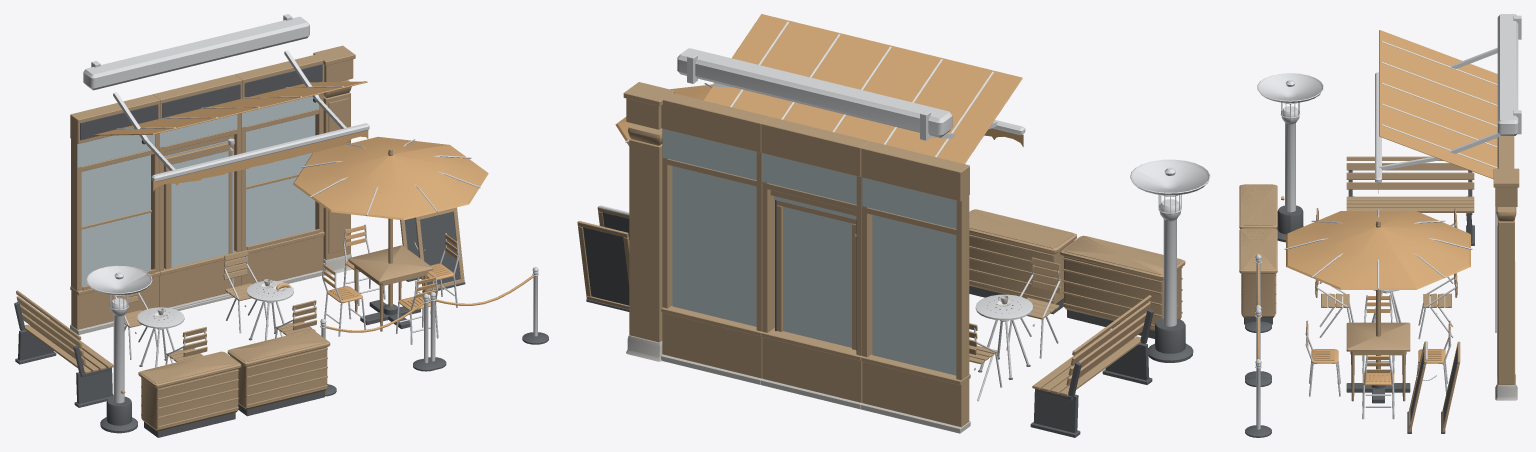
Rendered from bakery-and-cafe-cafe-terrace-f858d69a__22247.glb.
3 views of the same model, side by side, from view 1: azimuth 30°, elevation 25°; view 2: azimuth 150°, elevation 25°; view 3: azimuth 270°, elevation 25° (orthographic). The views are drawn at different scales.
Visible parts, largest first — view 1: 016-parasol/3, 000-shopfront-window-module/2, 004-awning-retractable/0, 002-shopfront-window-module/2, 001-shopfront-door-module/shop-door (×2), 000-shopfront-window-module/1, 019-planter-barrier/1, 001-shopfront-door-module/1, 002-shopfront-window-module/1, 020-planter-barrier/1, 004-awning-retractable/1, 003-shopfront-pilaster/1 (+22 smaller); view 2: 004-awning-retractable/1, 002-shopfront-window-module/2, 000-shopfront-window-module/2, 000-shopfront-window-module/1, 001-shopfront-door-module/1, 002-shopfront-window-module/1, 001-shopfront-door-module/shop-door (×2), 003-shopfront-pilaster/1, 004-awning-retractable/0, 019-planter-barrier/1, 020-planter-barrier/1, 018-outdoor-heater/1 (+14 smaller); view 3: 004-awning-retractable/1, 016-parasol/3, 017-outdoor-bench/1, 004-awning-retractable/0, 003-shopfront-pilaster/1, 020-planter-barrier/1, 018-outdoor-heater/1, 011-cafe-table-4-person/0, 019-planter-barrier/1, 004-awning-retractable/2, 023-a-board-sign/0, 015-cafe-chair-metal/1 (+20 smaller).
Boxes of the visible parts, left/top/right/bottom form: 016-parasol/3: left=293, top=136, right=488, bottom=220; 000-shopfront-window-module/2: left=77, top=134, right=154, bottom=286; 004-awning-retractable/0: left=83, top=14, right=369, bottom=182; 002-shopfront-window-module/2: left=242, top=94, right=319, bottom=247; 001-shopfront-door-module/shop-door (×2): left=164, top=142, right=234, bottom=269; 000-shopfront-window-module/1: left=70, top=94, right=160, bottom=329; 019-planter-barrier/1: left=138, top=351, right=241, bottom=431; 001-shopfront-door-module/1: left=152, top=74, right=242, bottom=307; 002-shopfront-window-module/1: left=235, top=54, right=324, bottom=285; 020-planter-barrier/1: left=227, top=330, right=330, bottom=409; 004-awning-retractable/1: left=94, top=81, right=368, bottom=191; 003-shopfront-pilaster/1: left=313, top=45, right=355, bottom=259; 004-awning-retractable/1: left=703, top=14, right=1023, bottom=163; 002-shopfront-window-module/2: left=662, top=129, right=756, bottom=326; 000-shopfront-window-module/2: left=862, top=177, right=956, bottom=375; 000-shopfront-window-module/1: left=861, top=141, right=970, bottom=427; 001-shopfront-door-module/1: left=761, top=117, right=869, bottom=402; 002-shopfront-window-module/1: left=661, top=92, right=769, bottom=378; 001-shopfront-door-module/shop-door (×2): left=777, top=200, right=855, bottom=349; 003-shopfront-pilaster/1: left=623, top=82, right=674, bottom=342; 004-awning-retractable/0: left=677, top=48, right=1025, bottom=140; 019-planter-barrier/1: left=1060, top=235, right=1185, bottom=330; 020-planter-barrier/1: left=969, top=209, right=1076, bottom=304; 018-outdoor-heater/1: left=1130, top=159, right=1210, bottom=326; 004-awning-retractable/1: left=1378, top=30, right=1497, bottom=193; 016-parasol/3: left=1286, top=211, right=1470, bottom=289; 017-outdoor-bench/1: left=1346, top=156, right=1474, bottom=212; 004-awning-retractable/0: left=1375, top=14, right=1521, bottom=183; 003-shopfront-pilaster/1: left=1493, top=168, right=1519, bottom=384; 020-planter-barrier/1: left=1239, top=228, right=1277, bottom=317; 018-outdoor-heater/1: left=1257, top=73, right=1323, bottom=212; 011-cafe-table-4-person/0: left=1346, top=322, right=1410, bottom=401; 019-planter-barrier/1: left=1239, top=184, right=1277, bottom=228; 004-awning-retractable/2: left=1381, top=41, right=1497, bottom=168; 023-a-board-sign/0: left=1408, top=341, right=1460, bottom=431; 015-cafe-chair-metal/1: left=1362, top=356, right=1394, bottom=385.
Bounding box in the file's own units: 6.44 × 3.61 × 3.53.
